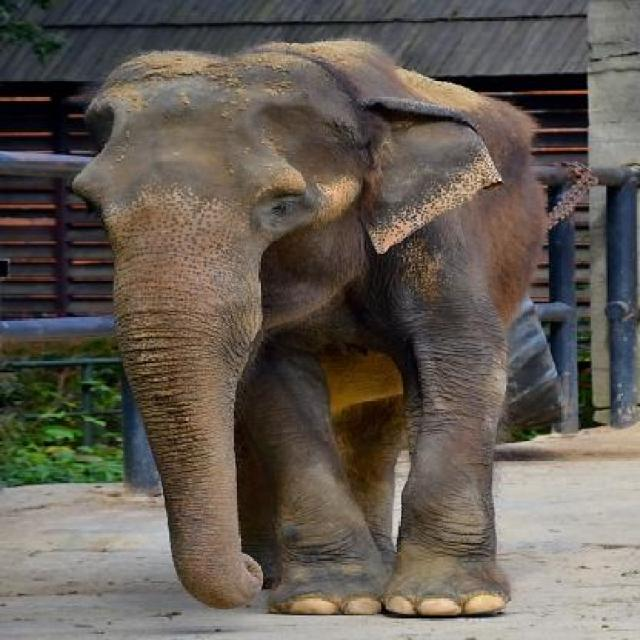Elephant: (73, 32, 593, 630)
